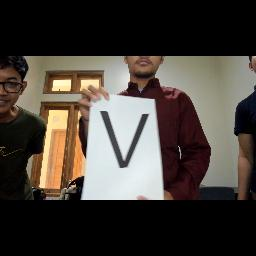v: (96, 104, 152, 174)
